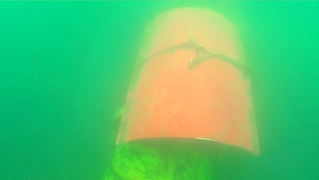leak: (114, 8, 261, 157)
pipe: (100, 139, 235, 180)
